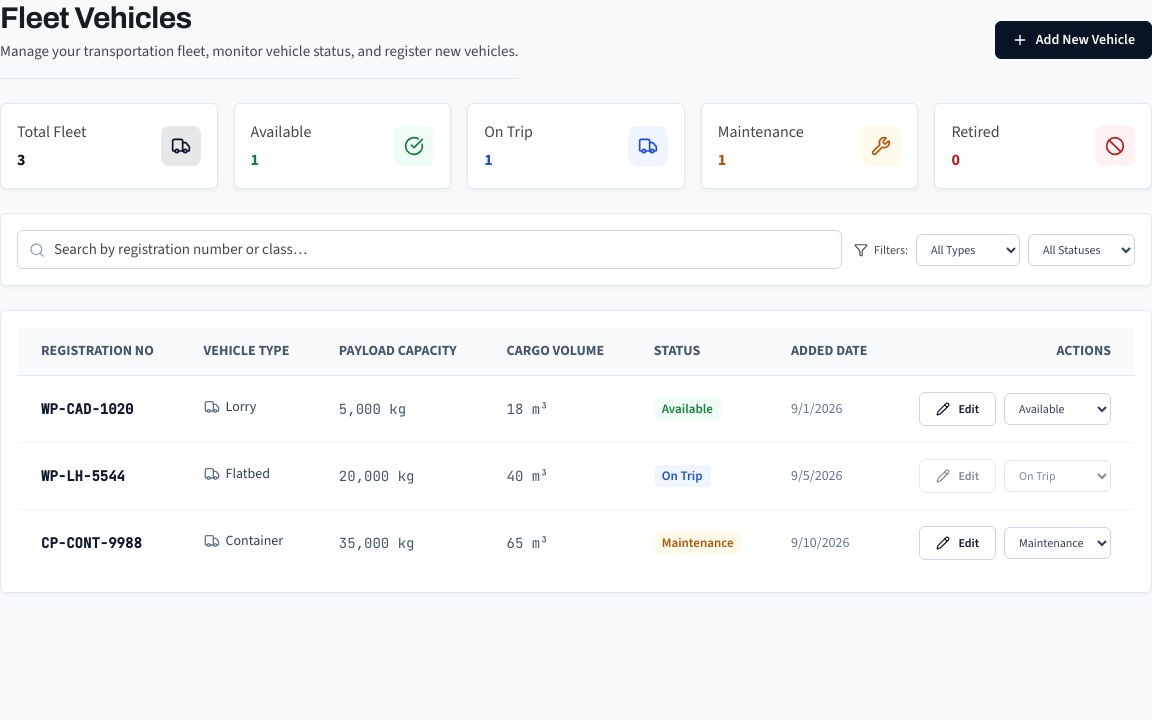
Test case: FleetVehiclesPage › opens add vehicle drawer when "Add New Vehicle" is clicked
Step 1. Click the button "Add New Vehicle" → x=1073, y=40, box [995,20,1151,58]
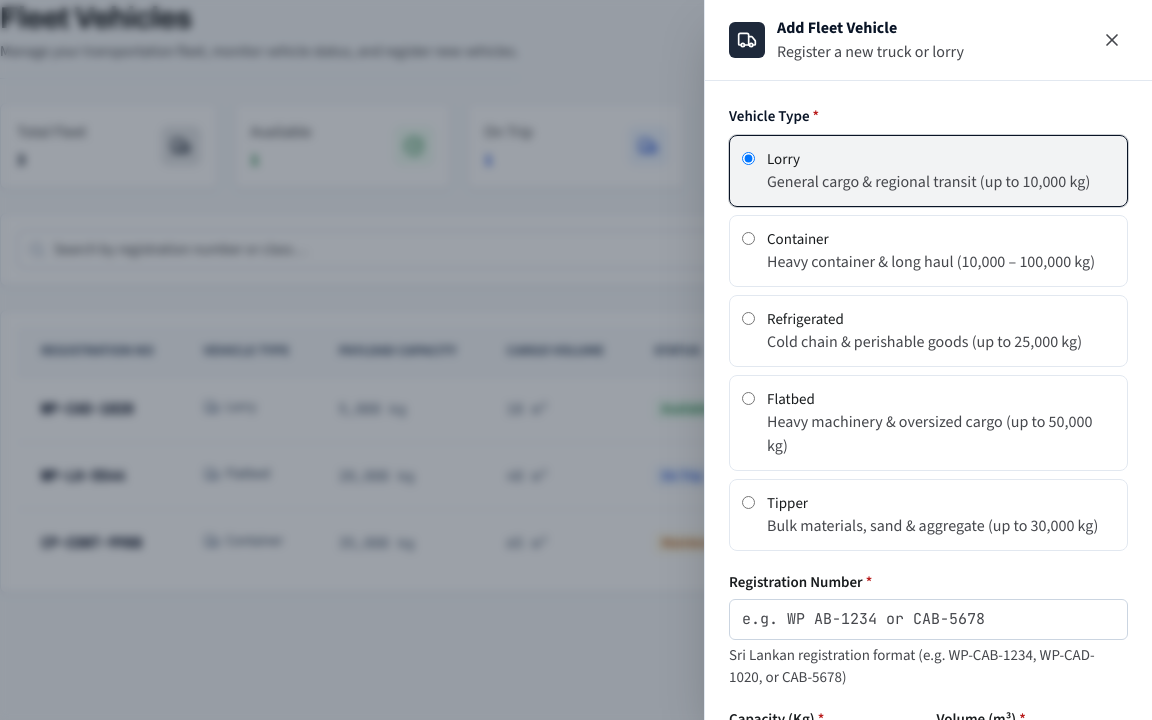
Result: the dialog is shown at [704,0,1151,719]
Result: the heading "Add Fleet Vehicle" is shown at [777,17,897,38]
Result: the field with placeholder "e.g. WP AB-1234 or CAB-5678" is shown at [729,599,1128,640]
